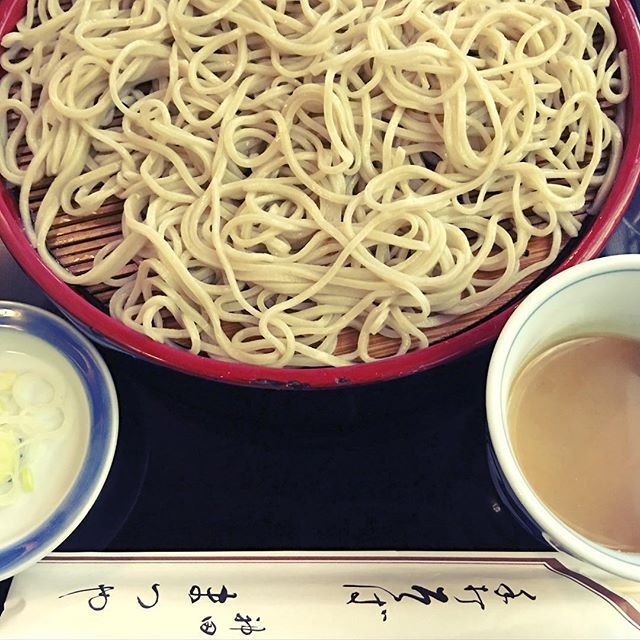Soba: (4, 7, 617, 346)
